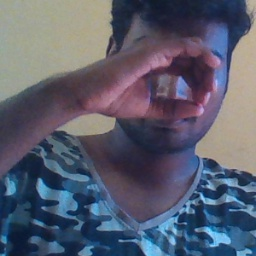O: (77, 26, 222, 130)
